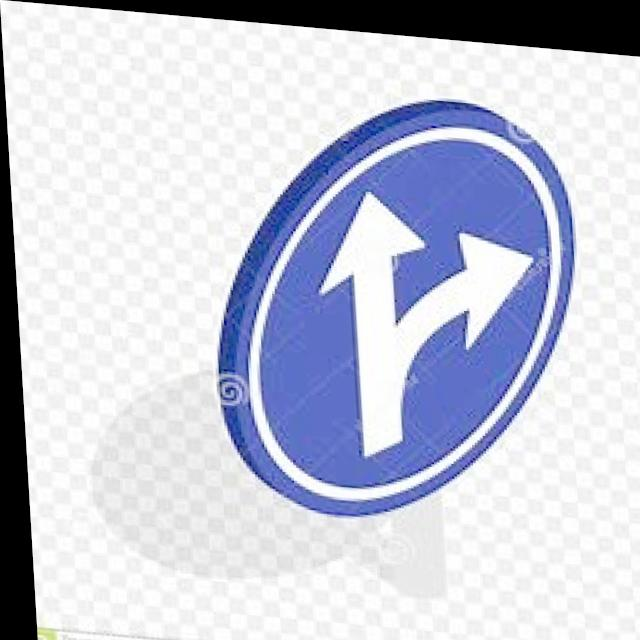COMPULSARY_AHEAD_OR_TURN_RIGHT: (178, 60, 593, 546)
